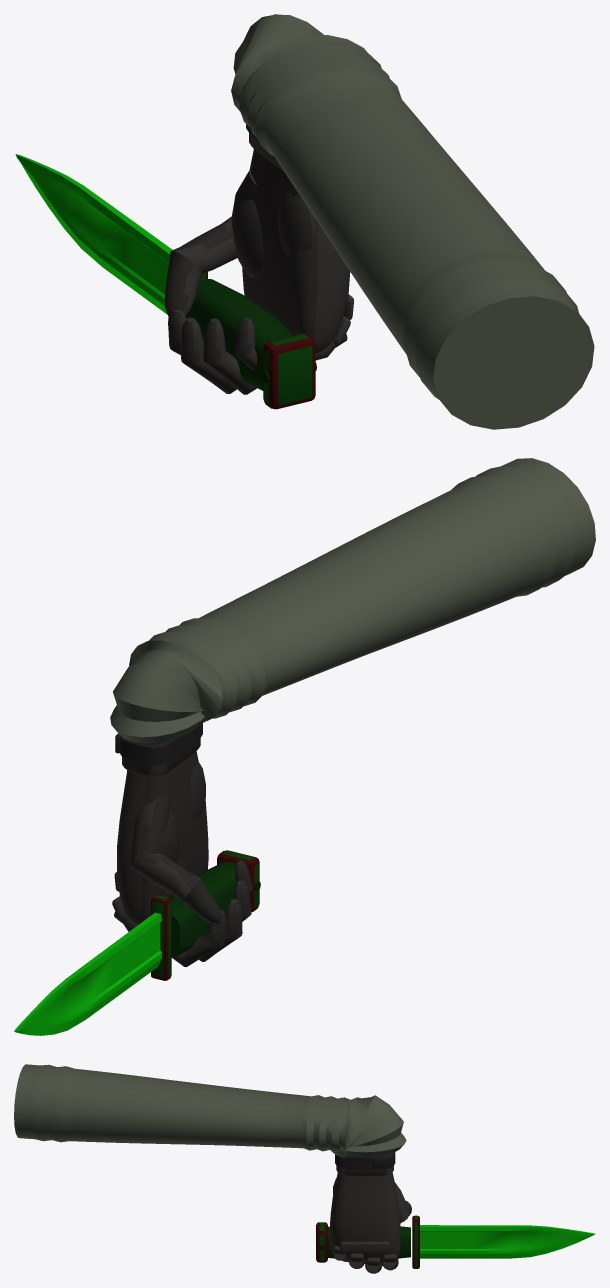
The model's file is knife.glb.
3 renders of one model, top to bottom at view 1: azimuth 30°, elevation 25°; view 2: azimuth 150°, elevation 25°; view 3: azimuth 270°, elevation 25°, orthographic. The views are drawn at different scales.
Parts seen in each view (by area): view 1: ArmR, HandR, Knife; view 2: ArmR, HandR, Knife; view 3: ArmR, HandR, Knife.
Boxes of the visible parts, x1,y1,x2,y2 form: ArmR: [231, 14, 594, 429]; HandR: [164, 124, 353, 394]; Knife: [15, 154, 316, 409]; ArmR: [110, 458, 595, 743]; HandR: [112, 723, 252, 967]; Knife: [14, 850, 260, 1035]; ArmR: [14, 1064, 406, 1158]; HandR: [330, 1152, 411, 1273]; Knife: [316, 1215, 595, 1268].
Size of the model in its own units: 0.1357 by 0.1872 by 0.5321.
